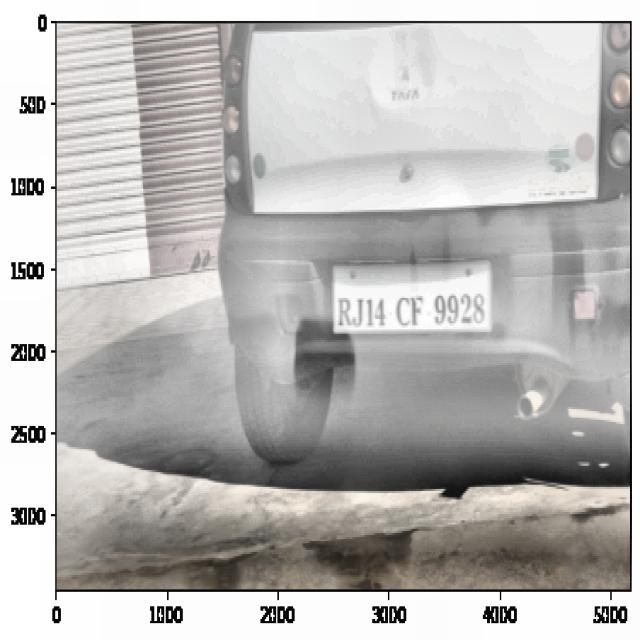license_plate: (332, 278, 489, 334)
